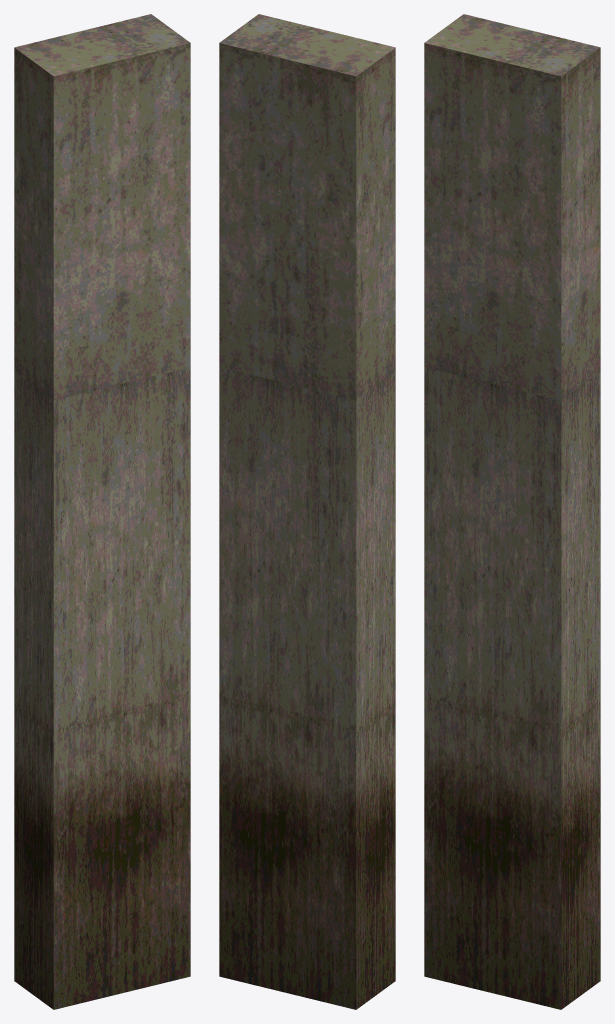
Rendered from Parede1x25grande.fbx.
3 renders of one model, left to right at view 1: azimuth 30°, elevation 25°; view 2: azimuth 150°, elevation 25°; view 3: azimuth 330°, elevation 25°, orthographic.
Visible parts, largest first — view 1: Parede 1x4.25; view 2: Parede 1x4.25; view 3: Parede 1x4.25.
Part boxes in pixels (x1,y1,x2,y2): Parede 1x4.25: [14, 14, 190, 1009]; Parede 1x4.25: [219, 14, 395, 1009]; Parede 1x4.25: [424, 14, 600, 1009].
Bounding box in the file's own units: 100 × 651 × 50.
1 material, 1 textured.
